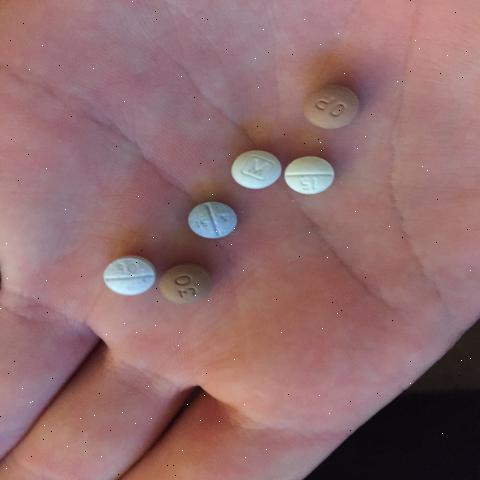Pill: (85, 241, 155, 310), (284, 152, 356, 208), (214, 147, 281, 198), (169, 202, 244, 243)
